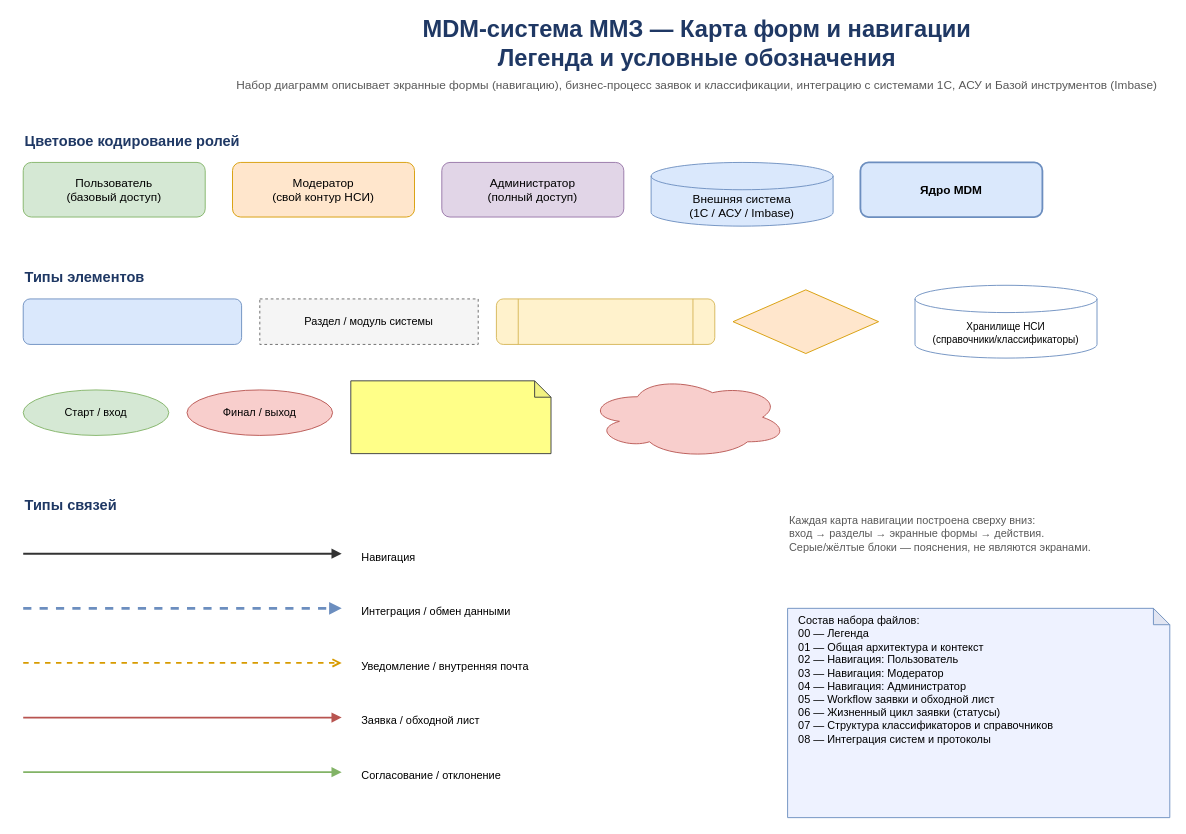
Image size: 1186x834. Some labels were removed from this diagram. Each missing label, with the box of its shape:
Внешняя НСИ / реестр (Техэксперт, ФНС, Аршин, Кладар): (586, 375, 788, 458)
Примечание / ограничение доступа дополнительный контекст: (350, 380, 551, 454)
Процесс / действие: (495, 298, 715, 344)
Шлюз / условие: (732, 289, 879, 354)
Экранная форма / страница: (22, 298, 242, 344)
